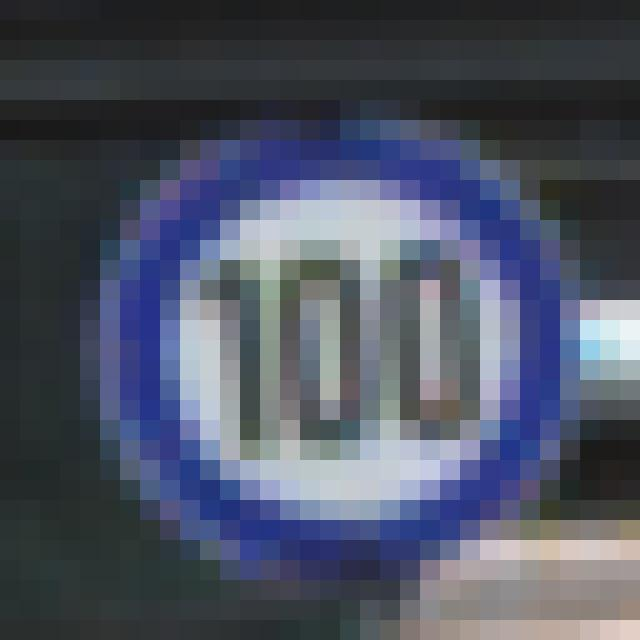SPEED LIMIT 100: (89, 113, 573, 567)
